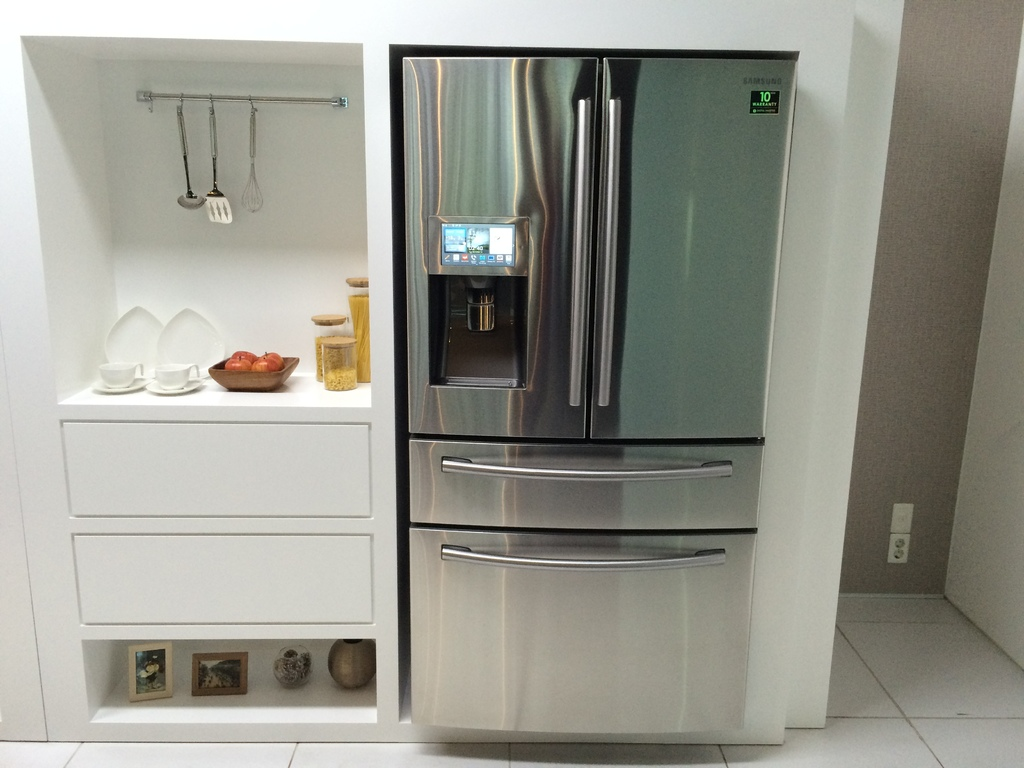cabinet door: (60, 425, 369, 517), (72, 537, 376, 622)
handle: (436, 447, 732, 490), (435, 538, 726, 574), (562, 93, 589, 414), (605, 94, 622, 409), (589, 410, 590, 413)
refrigerator door: (403, 61, 594, 430), (408, 531, 744, 721), (599, 61, 767, 438), (411, 439, 754, 527)
